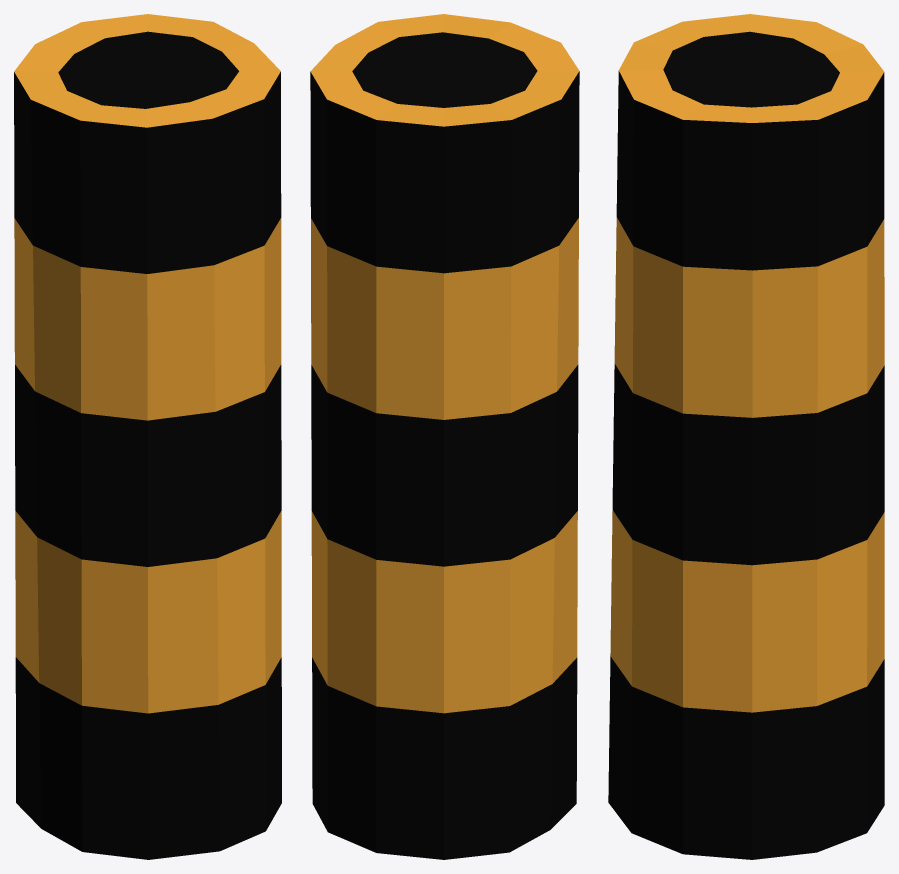
File: Zipper_DummyZipper.fbx
3 renders of one model, left to right at view 1: azimuth 30°, elevation 25°; view 2: azimuth 150°, elevation 25°; view 3: azimuth 270°, elevation 25°, orthographic.
Visible parts, largest first — view 1: Zipper_DummyZipper; view 2: Zipper_DummyZipper; view 3: Zipper_DummyZipper.
Boxes of the visible parts, bbox=[...] form: Zipper_DummyZipper: bbox=[14, 14, 281, 859]; Zipper_DummyZipper: bbox=[310, 14, 579, 859]; Zipper_DummyZipper: bbox=[608, 14, 884, 859].
Size of the model in its own units: 0.0133 by 0.0407 by 0.0138.
